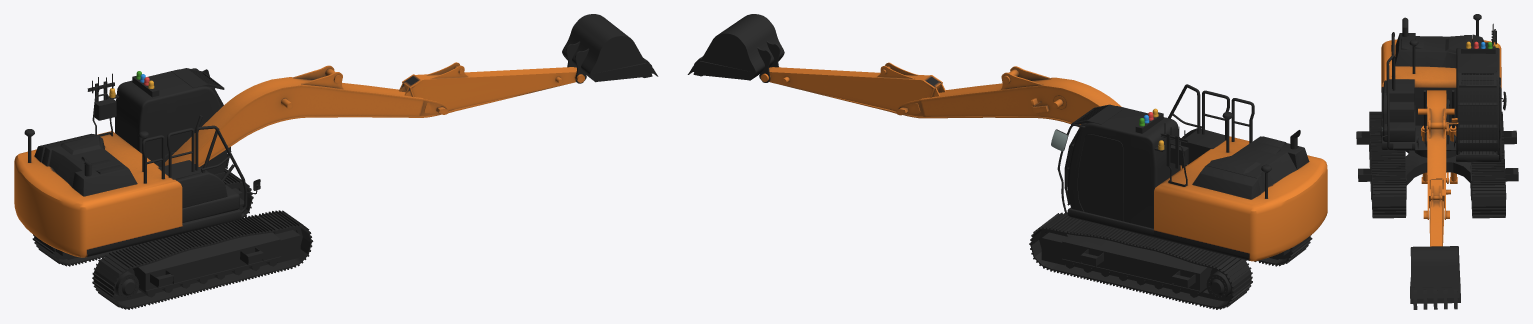
The model's file is opera_zx200.glb.
3 views of the same model, side by side, from view 1: azimuth 30°, elevation 25°; view 2: azimuth 150°, elevation 25°; view 3: azimuth 270°, elevation 25° (orthographic). The views are drawn at different scales.
Visible parts, largest first — view 1: body_link/Mesh_142-mesh/Mesh_142-mesh, track_link/Mesh_140-mesh/Mesh_140-mesh, boom_link/Mesh_127-mesh/Mesh_127-mesh, arm_link/Mesh_122-mesh/Mesh_122-mesh, bucket_link/Mesh_116-mesh/Mesh_116-mesh; view 2: body_link/Mesh_142-mesh/Mesh_142-mesh, track_link/Mesh_140-mesh/Mesh_140-mesh, boom_link/Mesh_127-mesh/Mesh_127-mesh, arm_link/Mesh_122-mesh/Mesh_122-mesh, bucket_link/Mesh_116-mesh/Mesh_116-mesh; view 3: body_link/Mesh_142-mesh/Mesh_142-mesh, track_link/Mesh_140-mesh/Mesh_140-mesh, bucket_link/Mesh_116-mesh/Mesh_116-mesh, boom_link/Mesh_127-mesh/Mesh_127-mesh, arm_link/Mesh_122-mesh/Mesh_122-mesh, boom_barrel/Mesh_134-mesh/Mesh_134-mesh, boom_rod/Mesh_132-mesh/Mesh_132-mesh.
Boxes of the visible parts, box(x1,y1,x2,y2) form: body_link/Mesh_142-mesh/Mesh_142-mesh: box(14, 68, 260, 257); track_link/Mesh_140-mesh/Mesh_140-mesh: box(32, 168, 313, 309); boom_link/Mesh_127-mesh/Mesh_127-mesh: box(165, 65, 448, 166); arm_link/Mesh_122-mesh/Mesh_122-mesh: box(398, 62, 584, 113); bucket_link/Mesh_116-mesh/Mesh_116-mesh: box(562, 14, 658, 83); body_link/Mesh_142-mesh/Mesh_142-mesh: box(1051, 84, 1327, 261); track_link/Mesh_140-mesh/Mesh_140-mesh: box(1029, 212, 1312, 309); boom_link/Mesh_127-mesh/Mesh_127-mesh: box(896, 66, 1182, 169); arm_link/Mesh_122-mesh/Mesh_122-mesh: box(760, 62, 945, 113); bucket_link/Mesh_116-mesh/Mesh_116-mesh: box(687, 14, 784, 82); body_link/Mesh_142-mesh/Mesh_142-mesh: box(1380, 14, 1506, 162); track_link/Mesh_140-mesh/Mesh_140-mesh: box(1356, 111, 1518, 218); bucket_link/Mesh_116-mesh/Mesh_116-mesh: box(1410, 246, 1460, 309); boom_link/Mesh_127-mesh/Mesh_127-mesh: box(1418, 90, 1458, 219); arm_link/Mesh_122-mesh/Mesh_122-mesh: box(1429, 178, 1443, 246); boom_barrel/Mesh_134-mesh/Mesh_134-mesh: box(1421, 125, 1457, 183); boom_rod/Mesh_132-mesh/Mesh_132-mesh: box(1423, 90, 1454, 128).
Size of the model in its own units: 13.04 by 3.98 by 3.58.
Materials: 1 (1 with a texture image).
